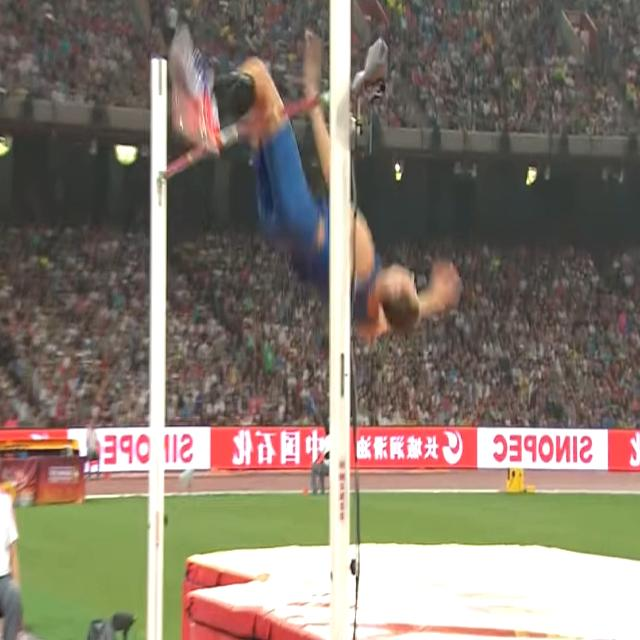jump: (172, 28, 462, 342)
